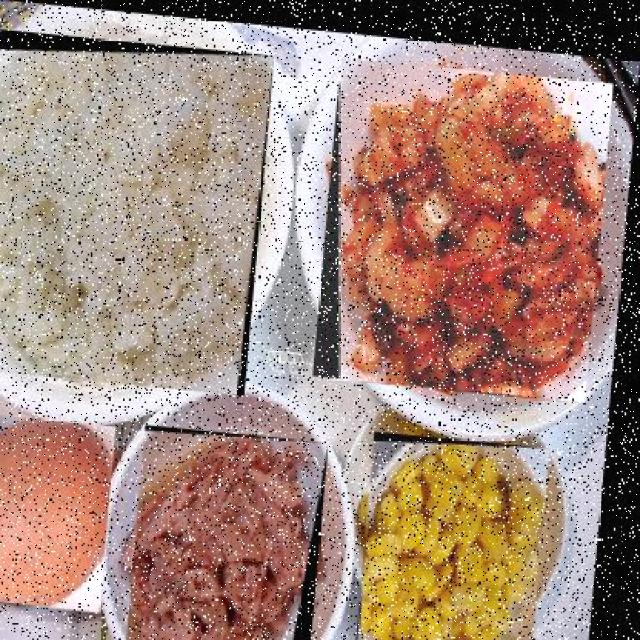Corn: (364, 423, 558, 639)
Egg: (0, 413, 123, 612)
Kimchi: (318, 50, 613, 392)
